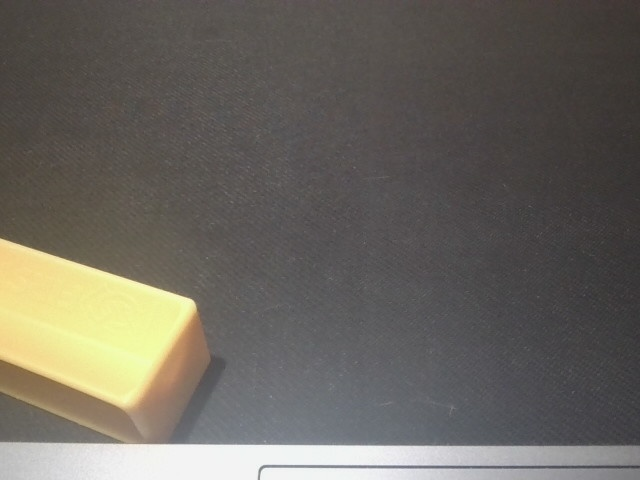YellowSample: (1, 236, 215, 446)
